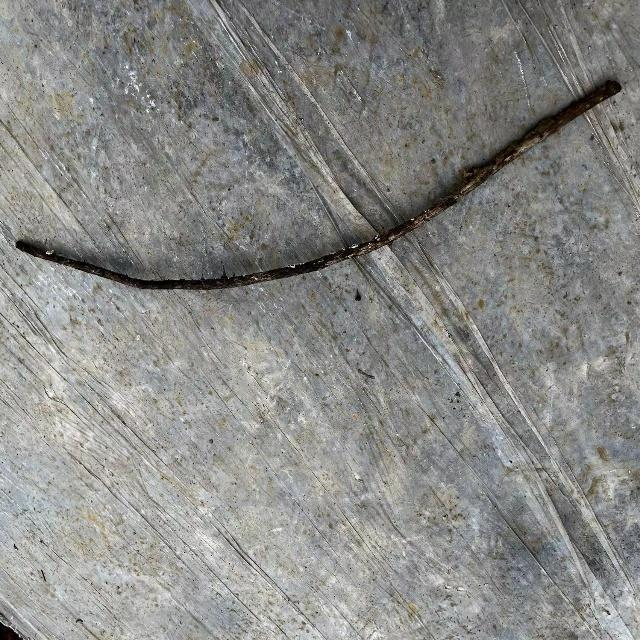branch: (21, 80, 623, 293)
